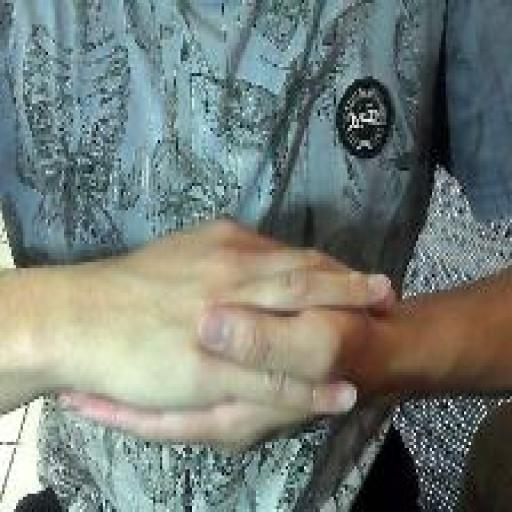Saru -monkey-: (53, 209, 400, 465)
